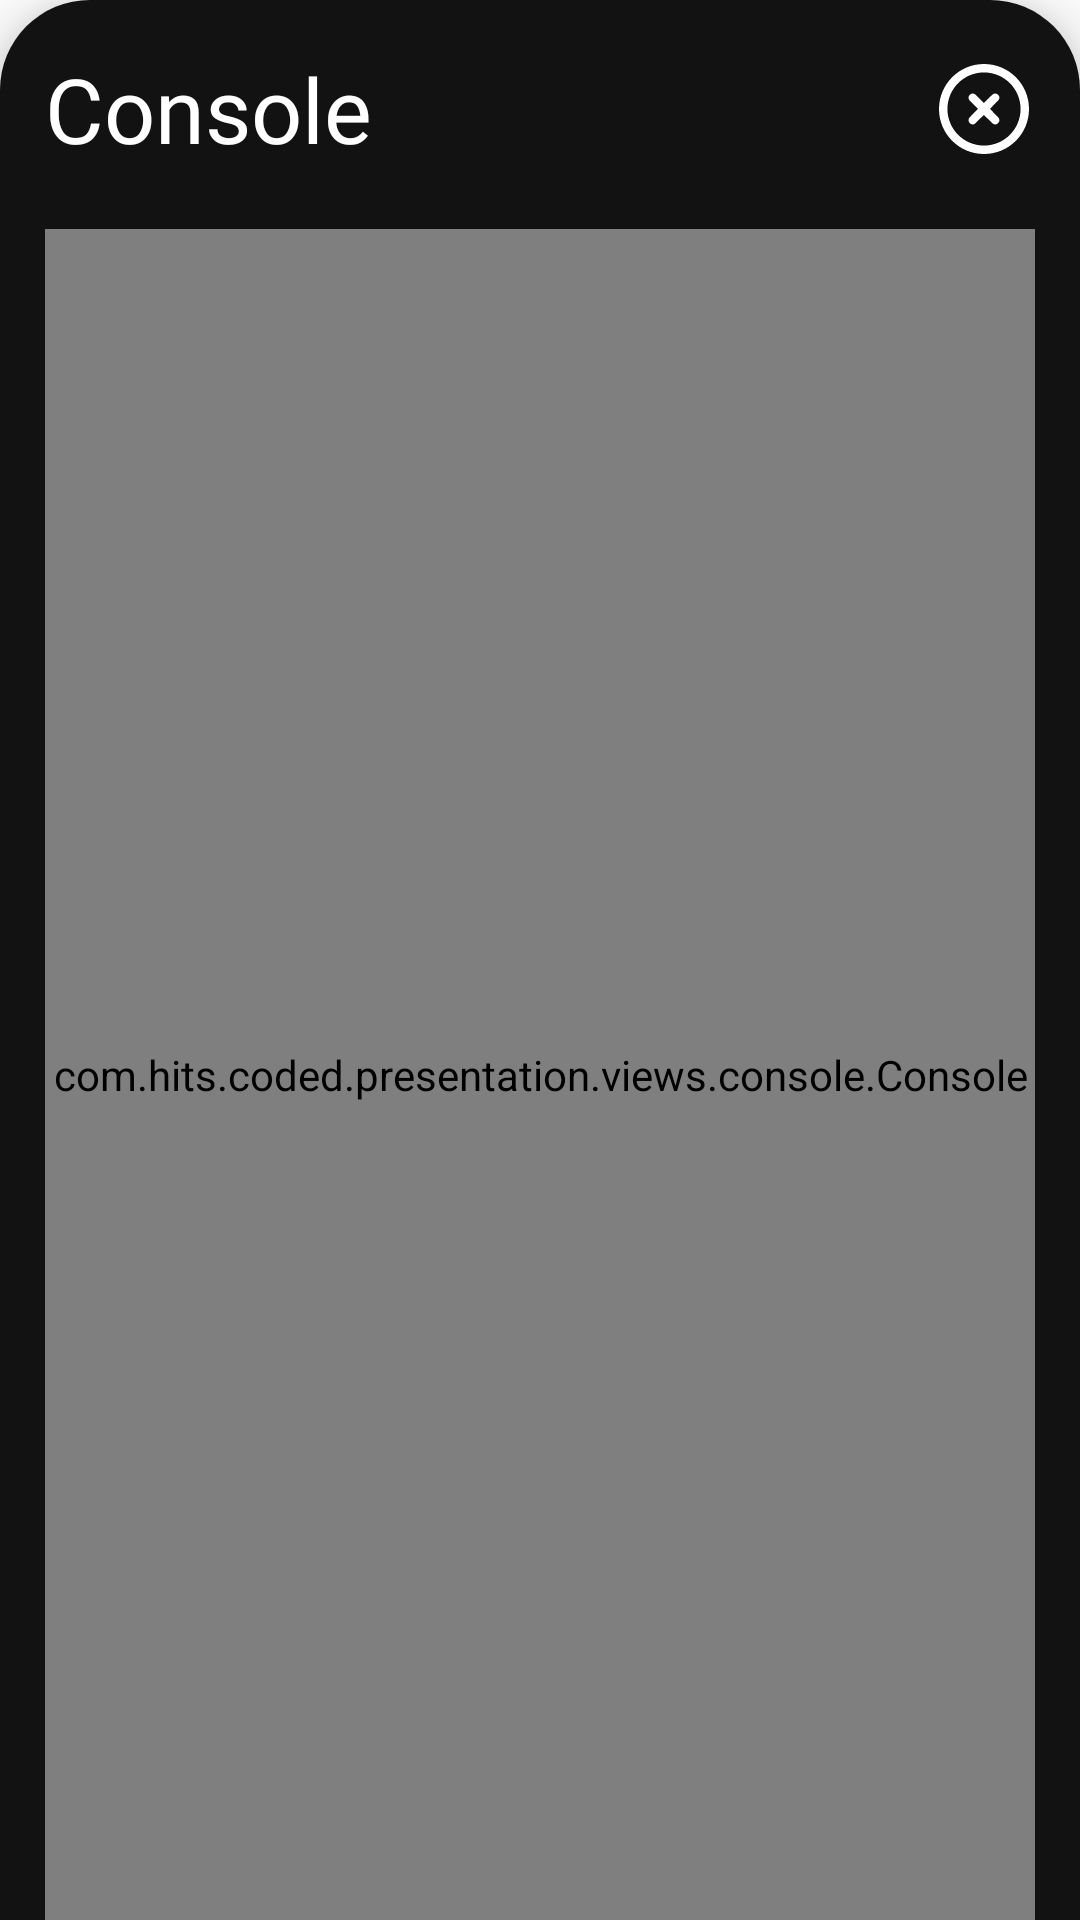

Screen size 1080 x 1920. Icon name, then its center in pixels as [x,y]:
Close: [984,109]
